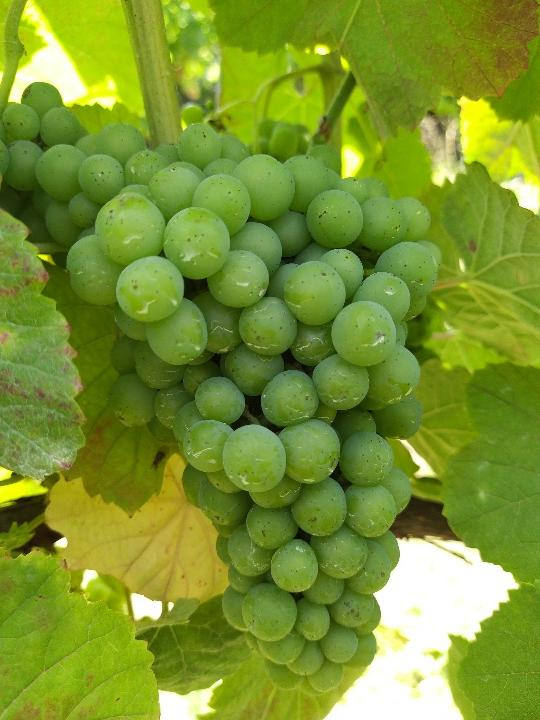grape: (58, 151, 450, 698)
